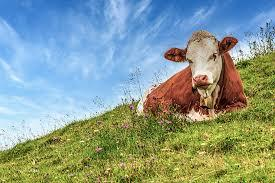cow: (137, 32, 248, 124)
